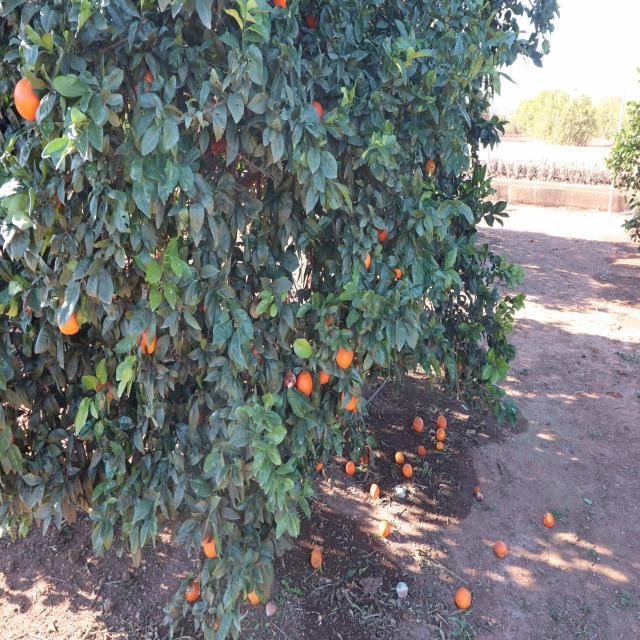Jeruk Sudah Matang: (11, 76, 44, 124), (56, 303, 84, 341), (136, 324, 158, 360), (296, 371, 318, 404), (334, 346, 360, 372), (202, 533, 220, 561), (341, 388, 358, 414), (358, 248, 374, 271), (303, 14, 321, 34), (311, 98, 326, 121), (376, 226, 390, 244), (426, 160, 439, 174), (393, 266, 401, 280)
